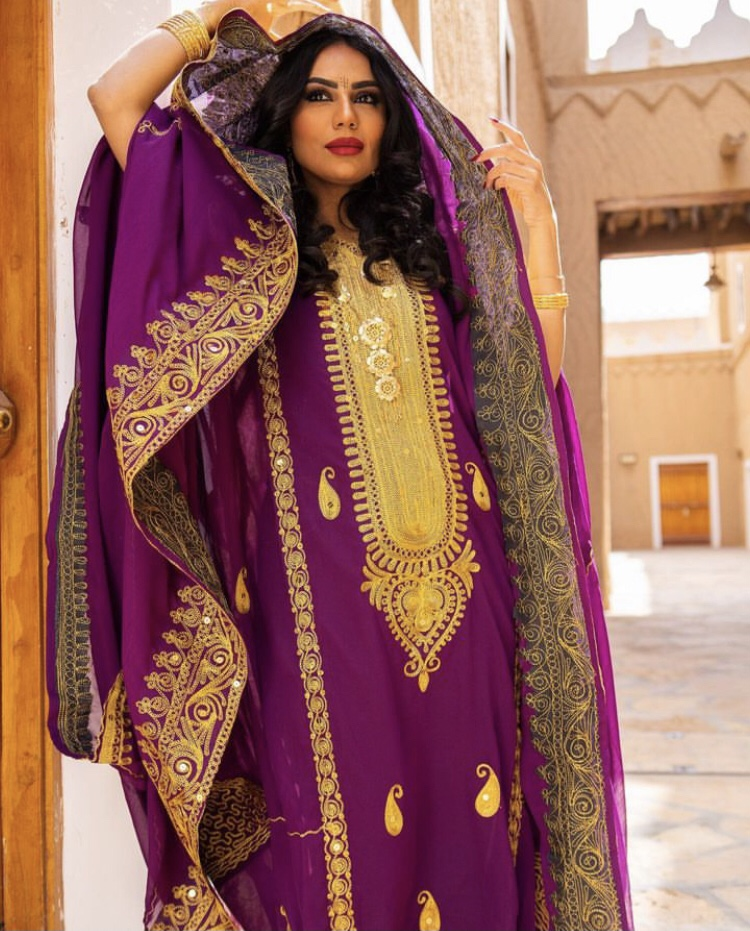Saudi_Founding_Day: (59, 1, 636, 931)
